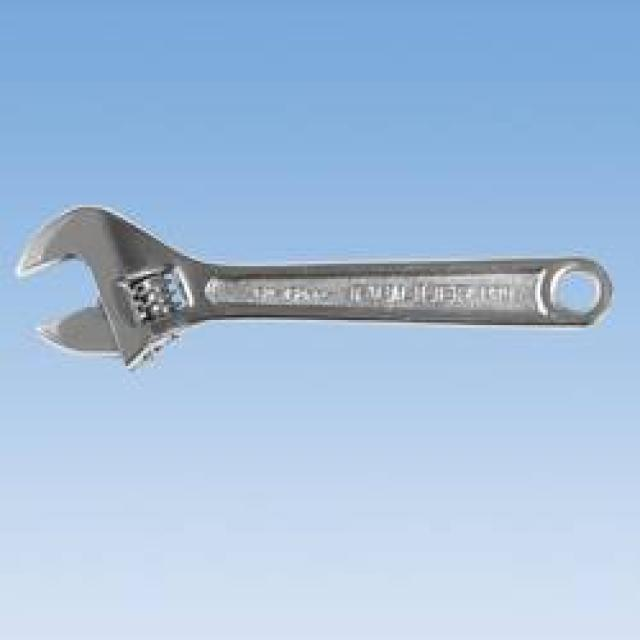wrench: (0, 183, 640, 397)
